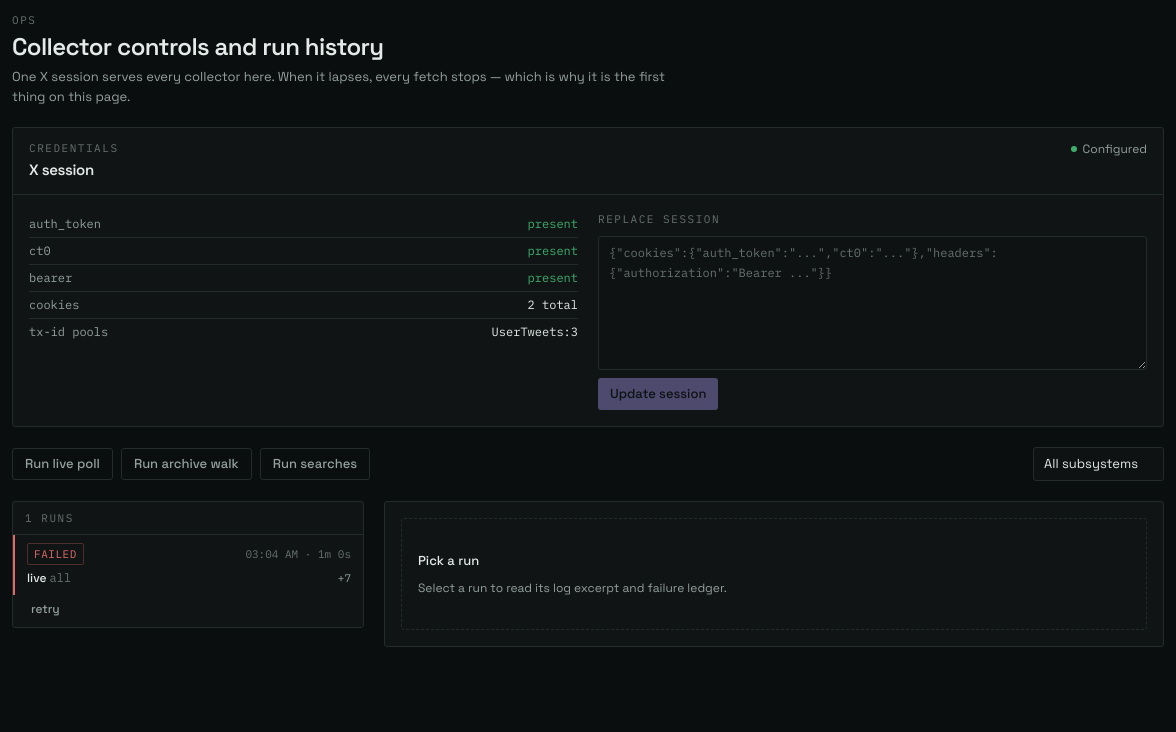
Scenario: run list and detail › renders the failure ledger for a failed run
Click the button "failed 03:04 AM · 1m 0s live all +7" at {"x": 55, "y": 554}, box [13,535,363,595]
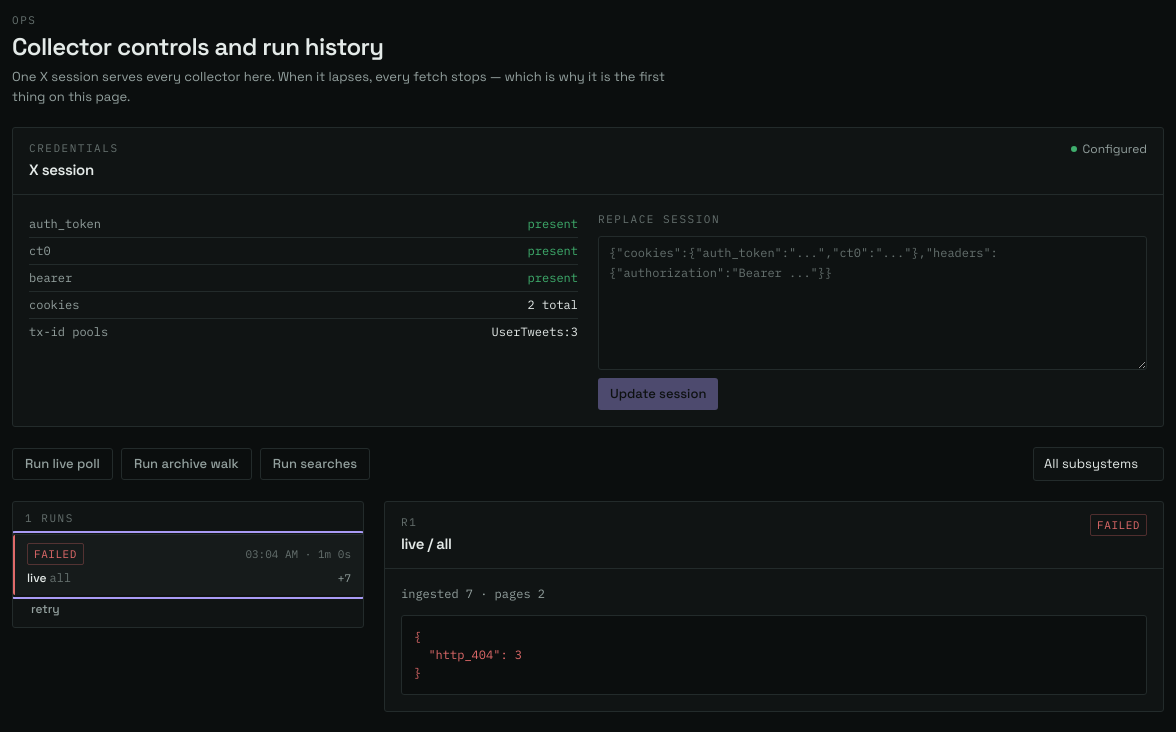
Expected: the text "{ \"http_404\": 3 }" is shown, [401,615,1147,695]
